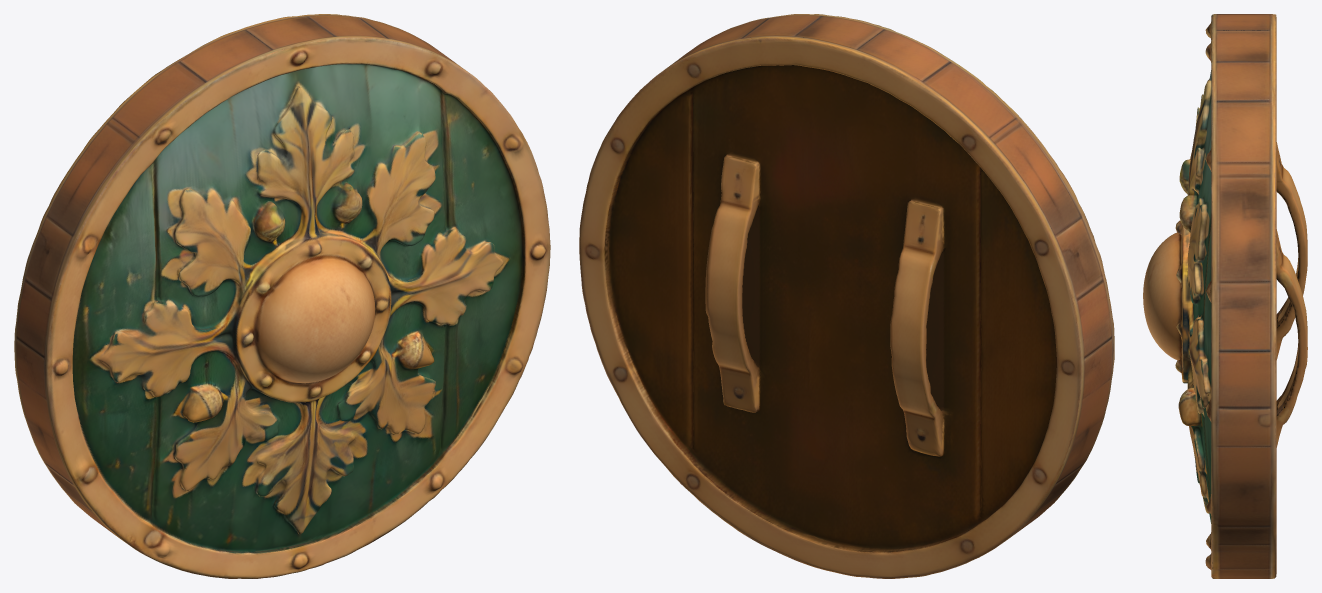
The model's file is forest-shield.glb.
3 renders of one model, left to right at view 1: azimuth 30°, elevation 25°; view 2: azimuth 150°, elevation 25°; view 3: azimuth 270°, elevation 25°, orthographic. The views are drawn at different scales.
Parts seen in each view (by area): view 1: model; view 2: model; view 3: model.
Boxes of the visible parts, x1=… form: model: x1=14, y1=14, x2=550, y2=578; model: x1=579, y1=14, x2=1114, y2=578; model: x1=1143, y1=14, x2=1307, y2=578.
Size of the model in its own units: 1.9 by 1.9 by 0.5548.
Materials: 1 (1 with a texture image).
